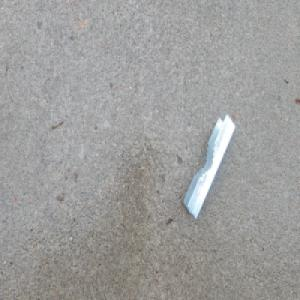ClampPart: (183, 113, 236, 220)
